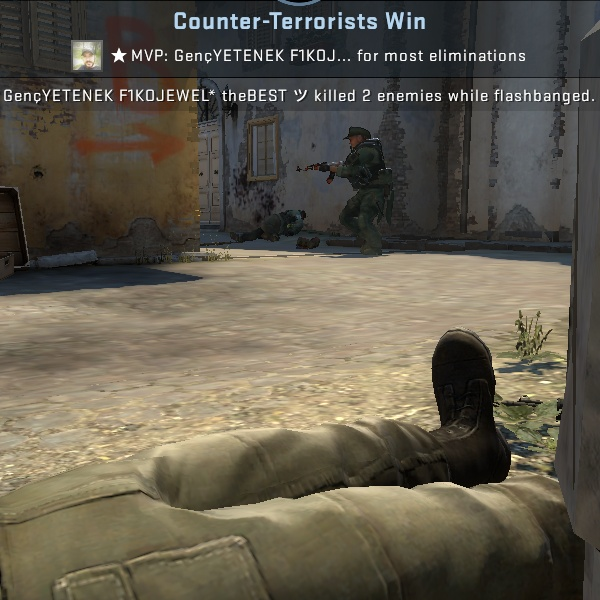ct_body: (319, 121, 398, 248)
ct_head: (339, 123, 372, 155)
